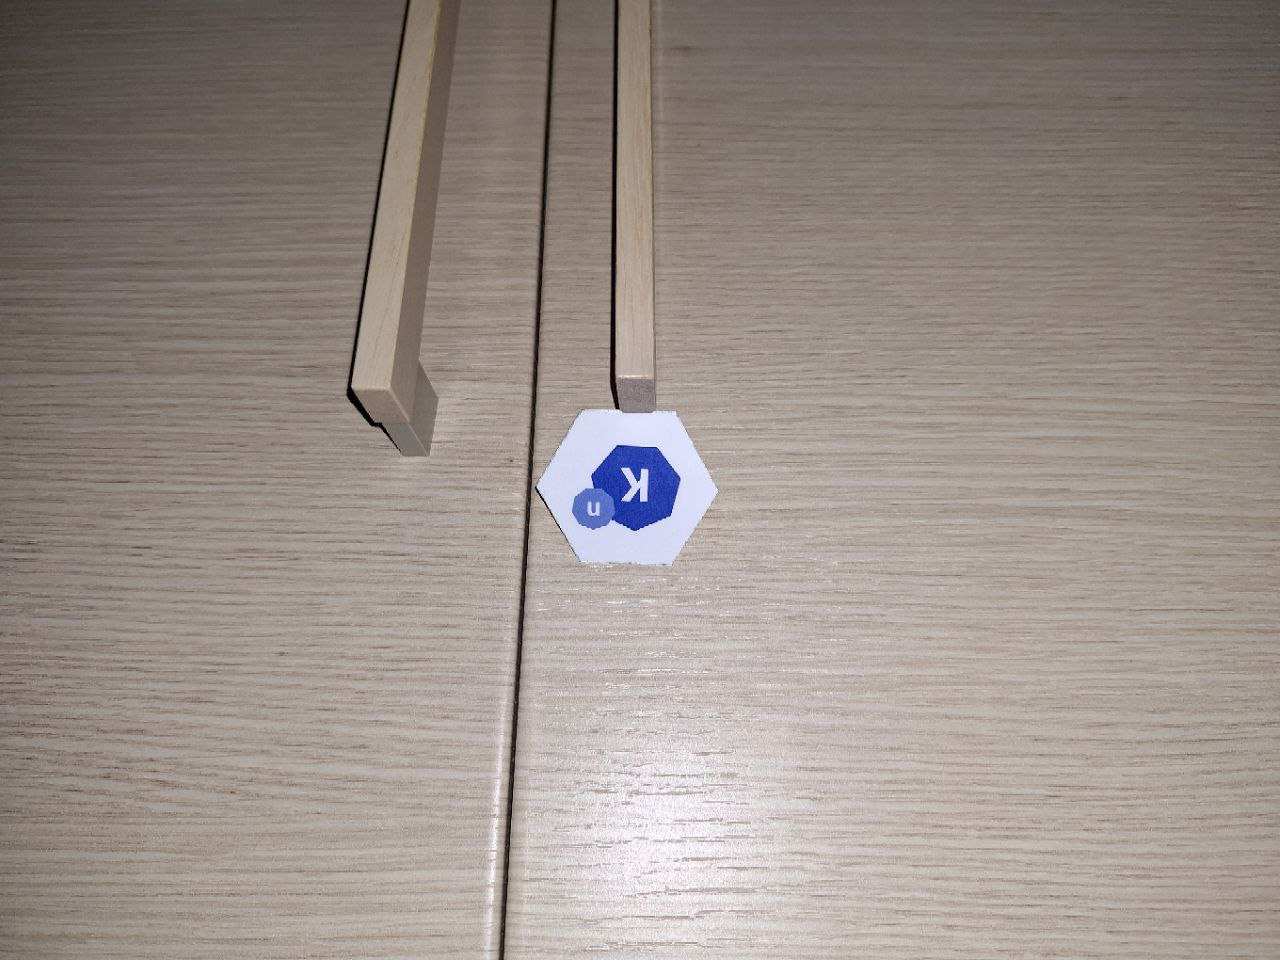knative: (568, 445, 686, 533)
